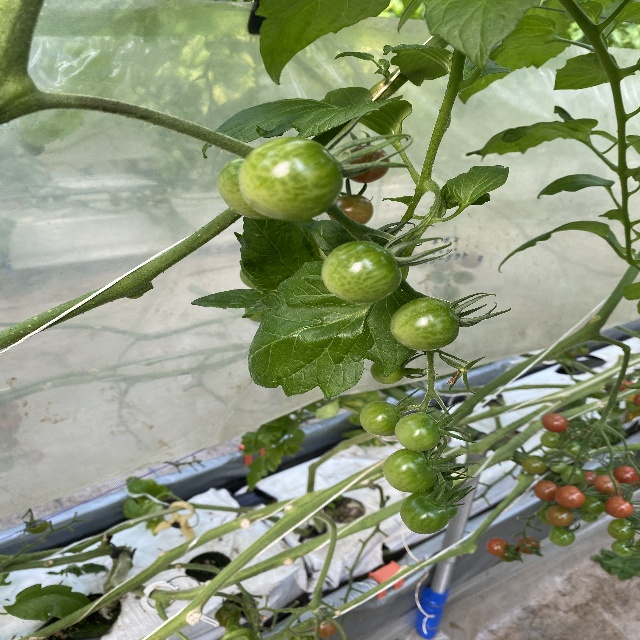l_green: (239, 135, 345, 222), (320, 239, 402, 305), (389, 298, 459, 351), (216, 155, 270, 219), (381, 448, 440, 493), (400, 491, 452, 535), (393, 412, 443, 451), (360, 401, 403, 436), (370, 362, 405, 383)
l_half_ripened: (341, 145, 391, 184), (328, 194, 374, 224)
